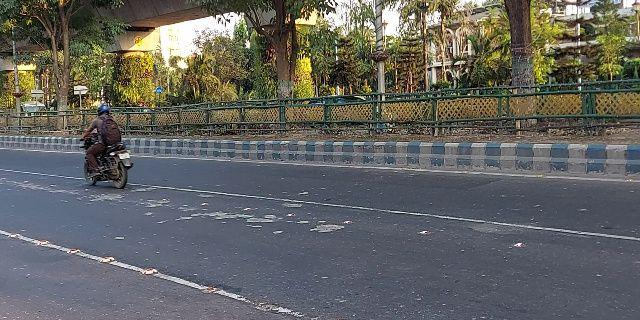Motorbike: (78, 104, 138, 192)
